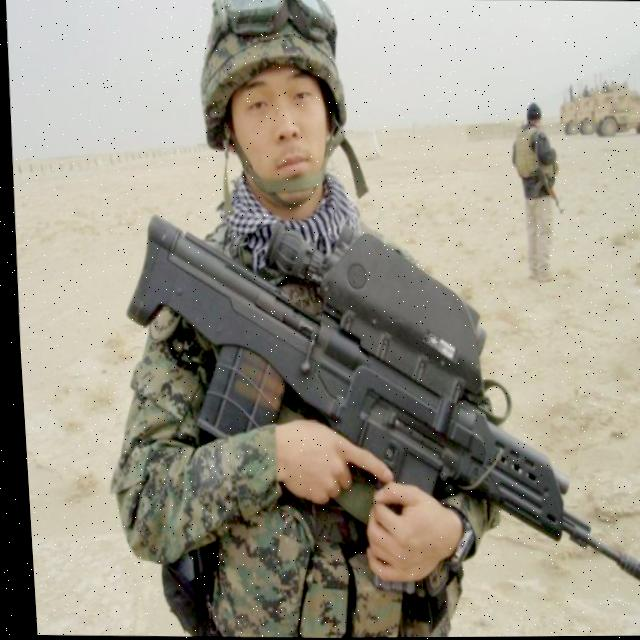firearm: (107, 209, 640, 603)
